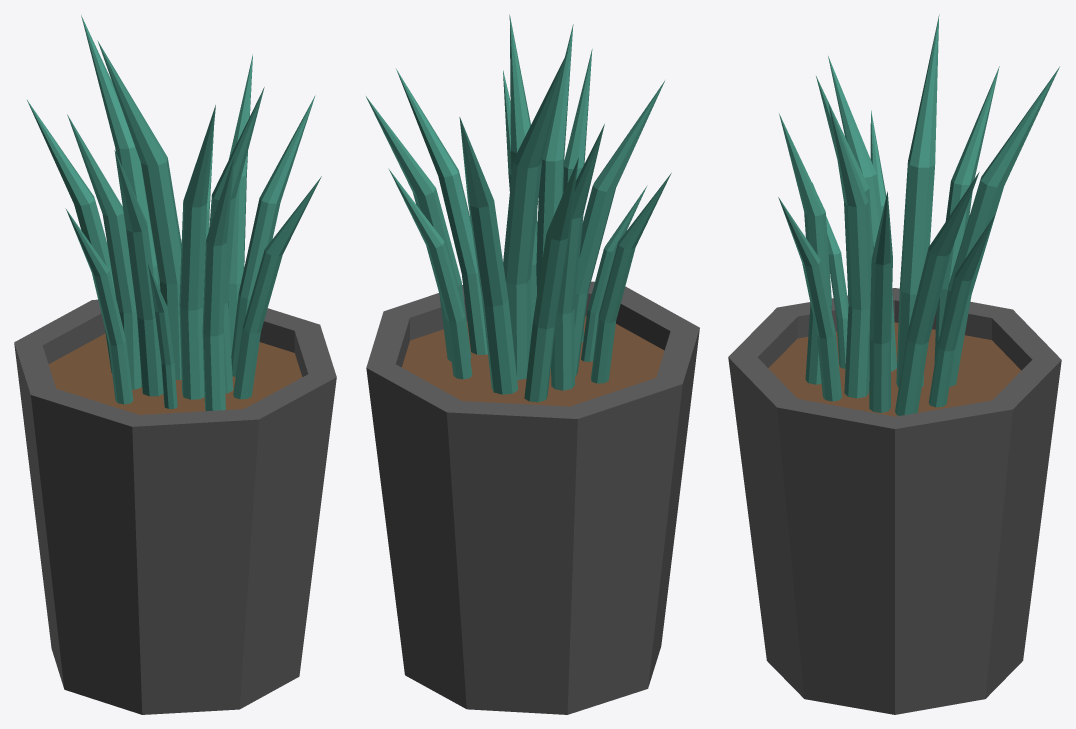
File: Flower_60.fbx
3 renders of one model, left to right at view 1: azimuth 30°, elevation 25°; view 2: azimuth 150°, elevation 25°; view 3: azimuth 270°, elevation 25°, orthographic. The views are drawn at different scales.
Parts seen in each view (by area): view 1: Flower_60; view 2: Flower_60; view 3: Flower_60.
Boxes of the visible parts, bbox=[...] form: Flower_60: bbox=[14, 15, 336, 714]; Flower_60: bbox=[366, 14, 699, 714]; Flower_60: bbox=[728, 14, 1061, 714].
Size of the model in its own units: 24.95 by 24.95 by 51.12.
